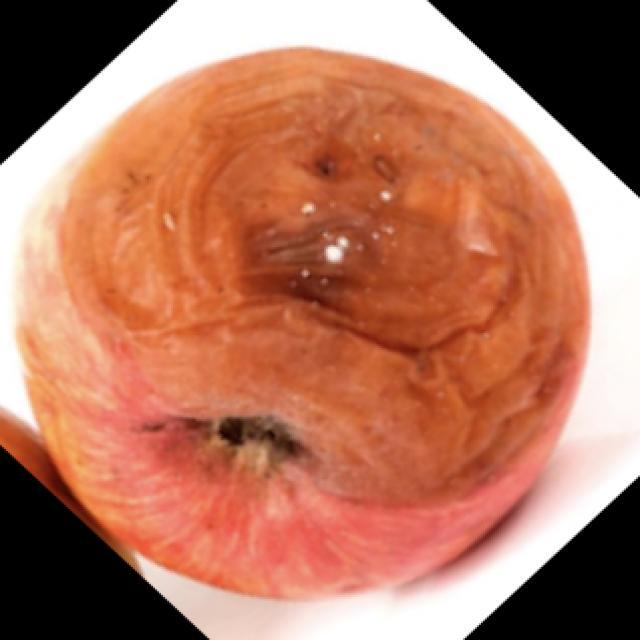Rotten: (75, 62, 550, 580)
